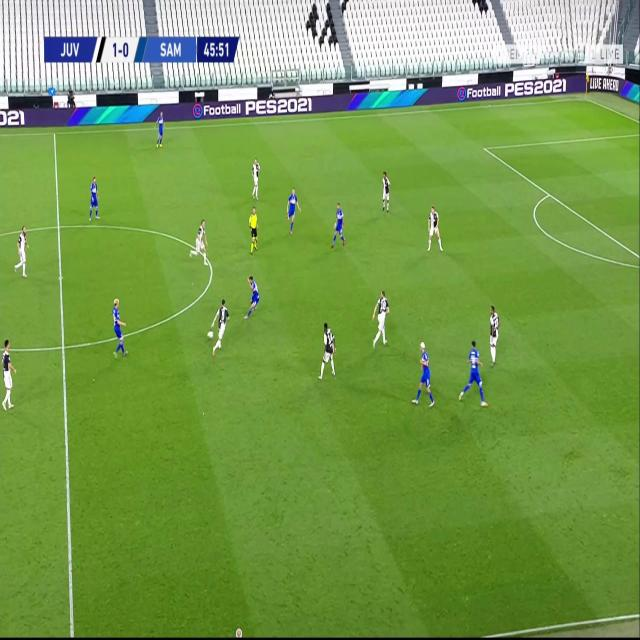ball: (206, 330, 214, 341)
player: (458, 340, 488, 410), (411, 341, 435, 409), (108, 295, 130, 362), (0, 334, 19, 411), (316, 321, 338, 382), (370, 289, 391, 352), (210, 298, 231, 357), (13, 224, 32, 285), (188, 218, 210, 266), (329, 200, 346, 252), (426, 203, 443, 254), (242, 275, 260, 322), (285, 188, 302, 235), (489, 304, 501, 370), (88, 175, 101, 223), (250, 157, 262, 202), (381, 170, 391, 215), (154, 112, 166, 149)
referee: (248, 207, 260, 256)
